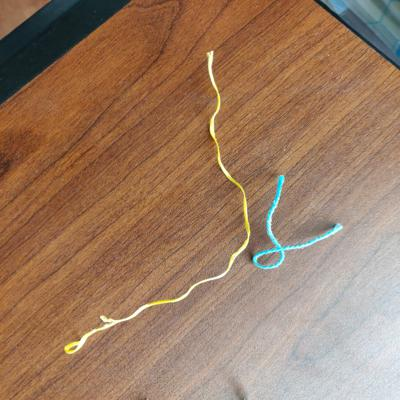thread: (37, 48, 254, 359), (250, 170, 345, 273)
